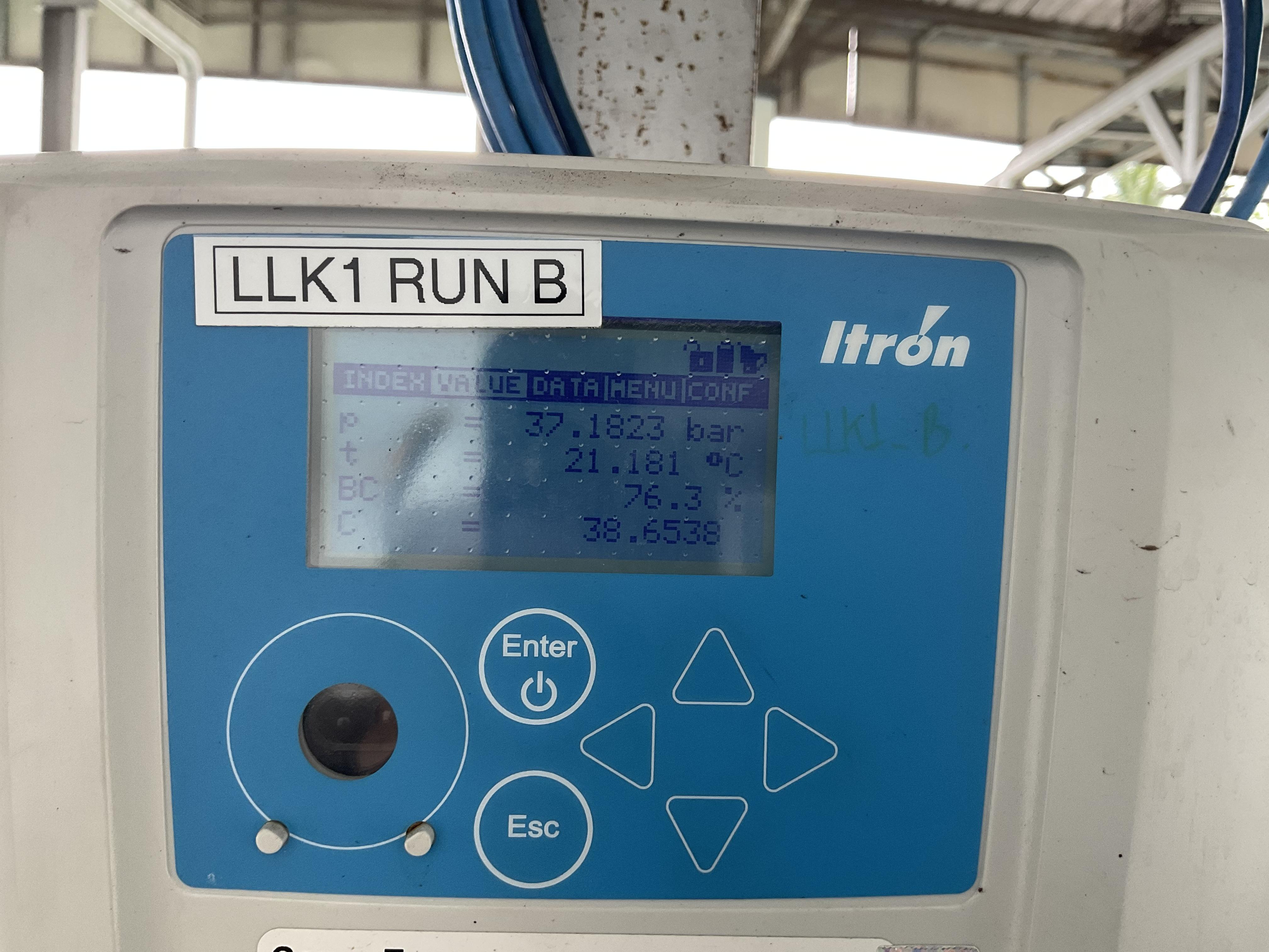digital_screen: (303, 313, 782, 576)
